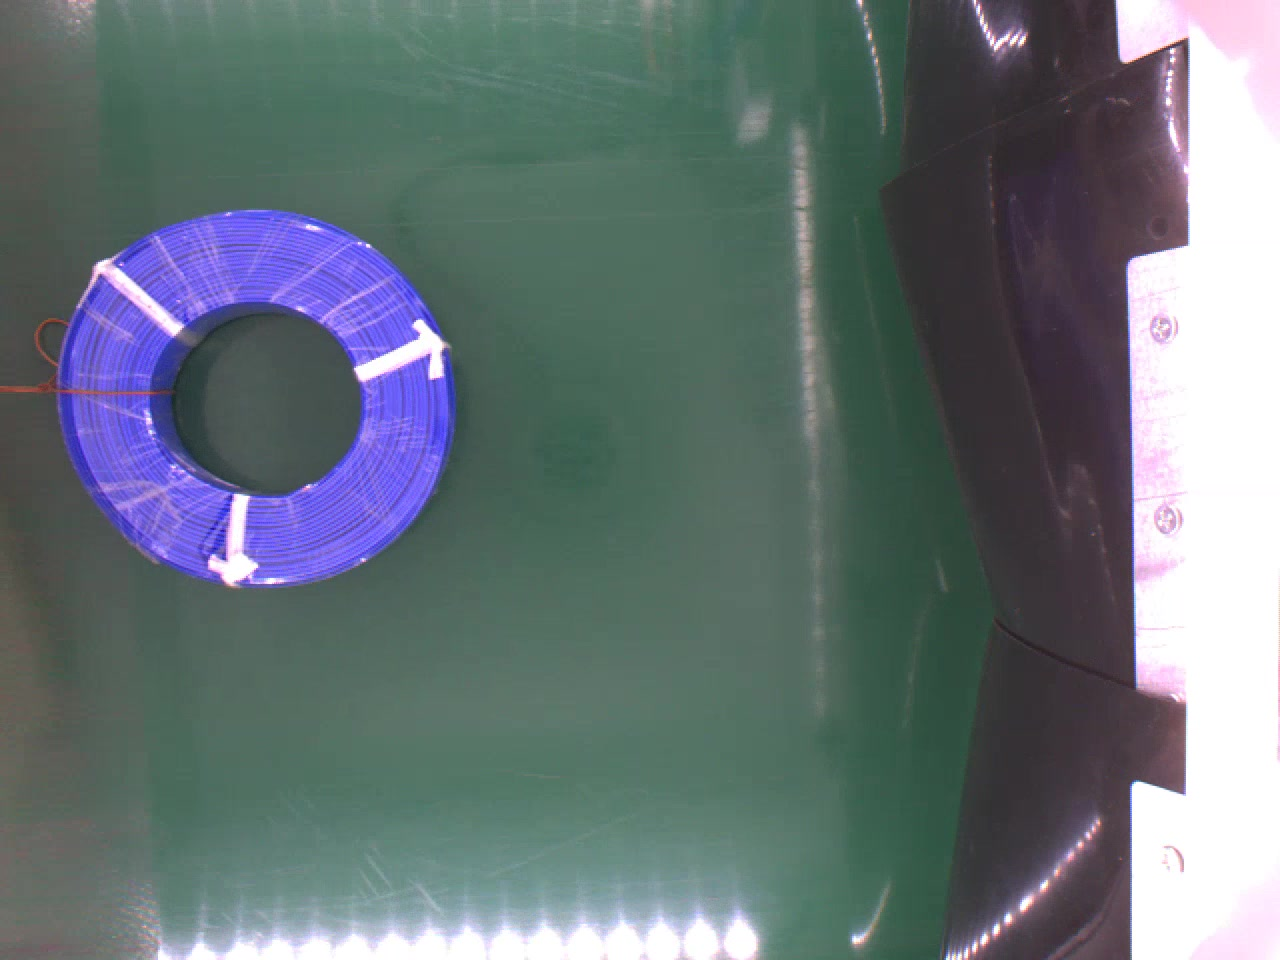blue: (58, 203, 451, 579)
